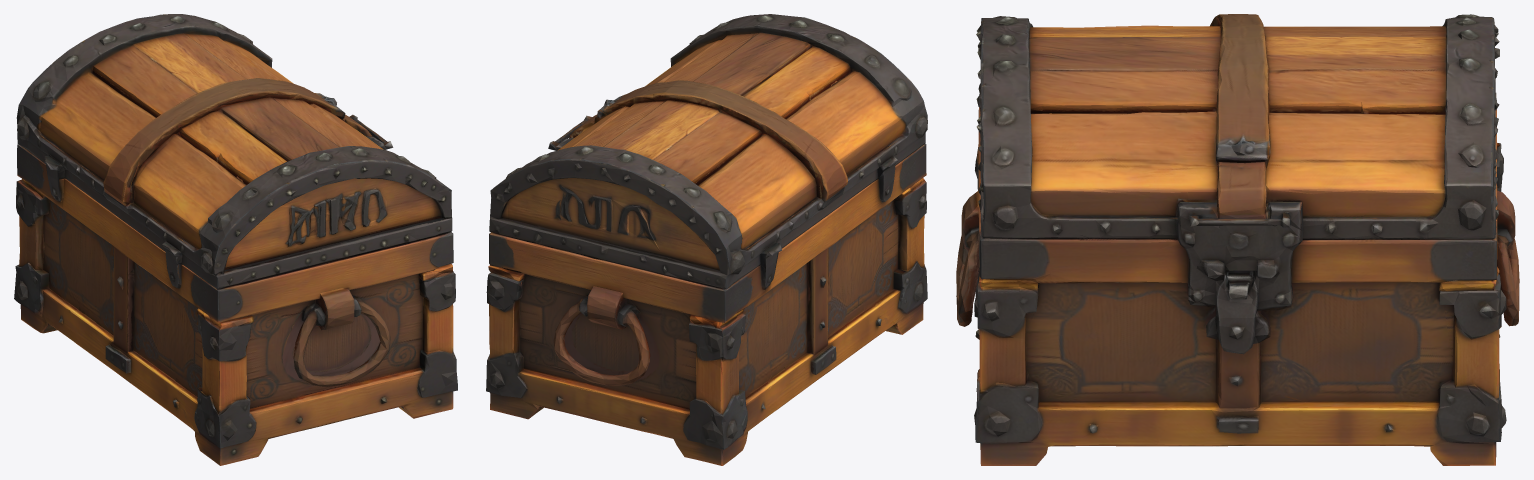
3 renders of one model, left to right at view 1: azimuth 30°, elevation 25°; view 2: azimuth 150°, elevation 25°; view 3: azimuth 270°, elevation 25°, orthographic. The views are drawn at different scales.
Visible parts, largest first — view 1: temp; view 2: temp; view 3: temp.
Part boxes in pixels (<box>): temp: <box>14,14,457,465</box>; temp: <box>486,14,927,465</box>; temp: <box>956,14,1519,465</box>.
Size of the model in its own units: 142 by 140 by 200.
Materials: 1 (1 with a texture image).
